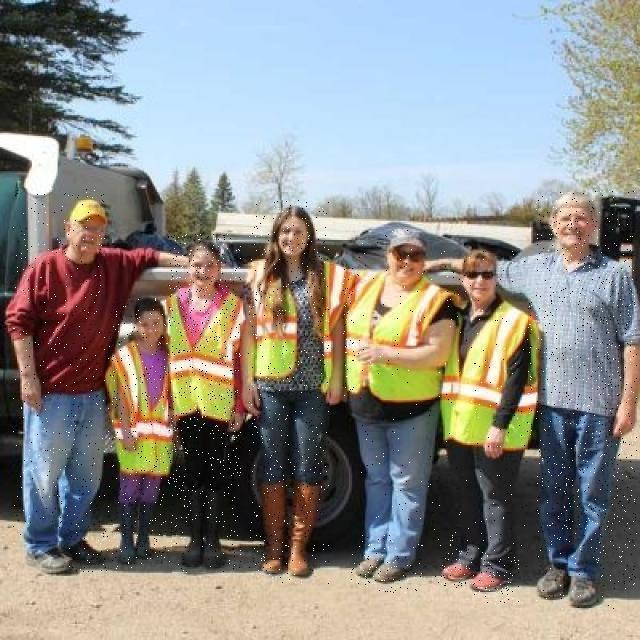goggles: (384, 247, 425, 262), (462, 268, 498, 282)
safety_vest: (435, 302, 532, 449), (343, 268, 434, 405), (168, 292, 234, 421), (109, 339, 170, 477), (247, 272, 304, 389)
